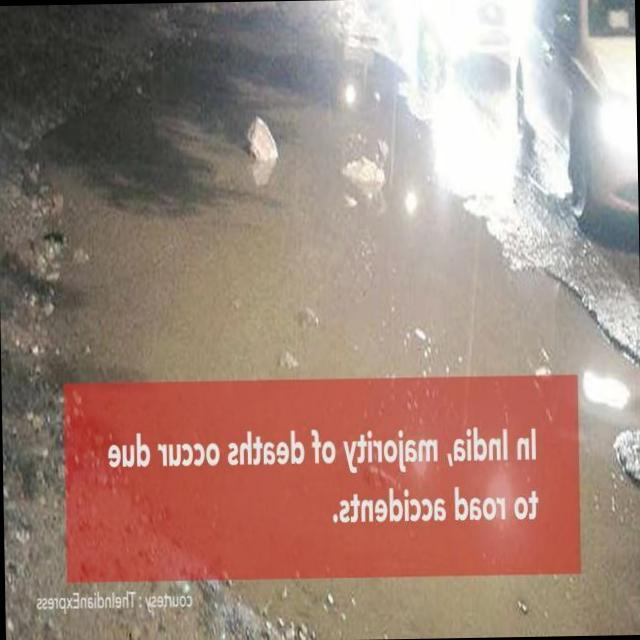Burst: (33, 37, 628, 469)
